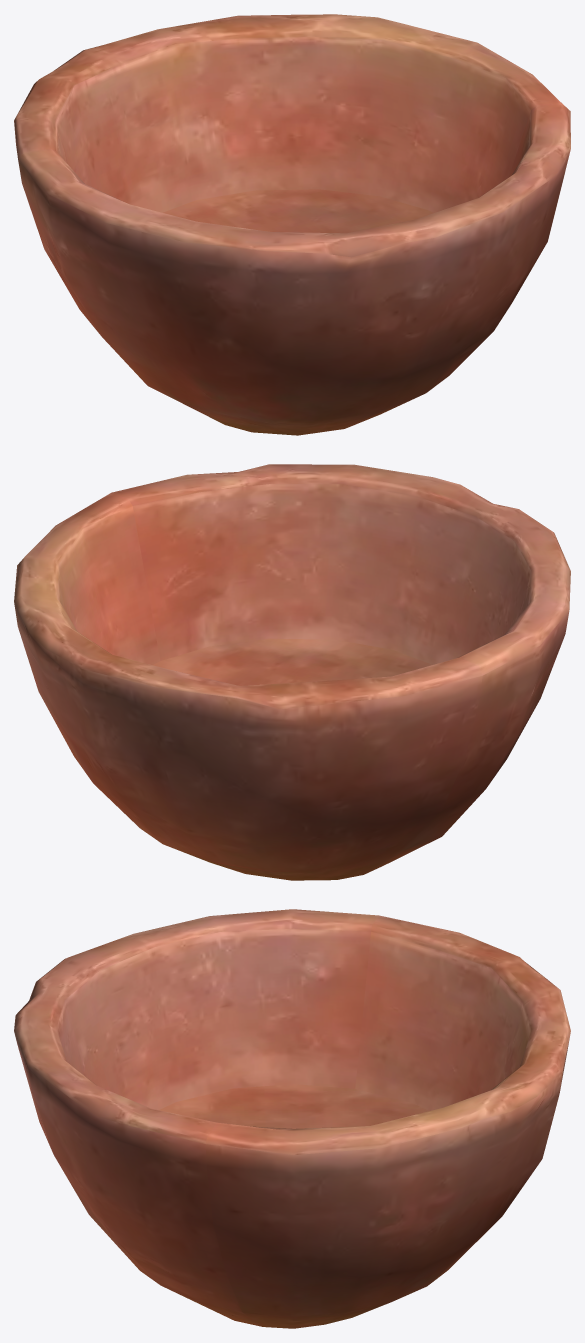
The picture shows the model from 3 angles, top to bottom: view 1: azimuth 30°, elevation 25°; view 2: azimuth 150°, elevation 25°; view 3: azimuth 270°, elevation 25°; orthographic projection.
Visible parts, largest first — view 1: SM_Clay_Bowl_01_LOD0; view 2: SM_Clay_Bowl_01_LOD0; view 3: SM_Clay_Bowl_01_LOD0.
Boxes of the visible parts, <box> form: SM_Clay_Bowl_01_LOD0: <box>14,14,570,435</box>; SM_Clay_Bowl_01_LOD0: <box>14,464,570,880</box>; SM_Clay_Bowl_01_LOD0: <box>14,909,570,1328</box>.
Bounding box in the file's own units: 0.3396 × 0.1879 × 0.3382.
1 material, 1 textured.
